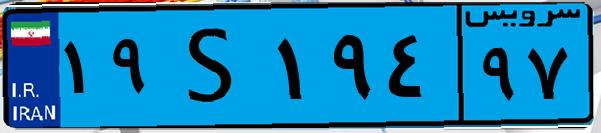1: (270, 28, 330, 110), (57, 26, 110, 100)
4: (385, 28, 445, 110)
7: (525, 38, 570, 115)
9: (330, 28, 385, 110), (475, 38, 525, 113), (110, 28, 158, 98)
S: (158, 12, 270, 120)
